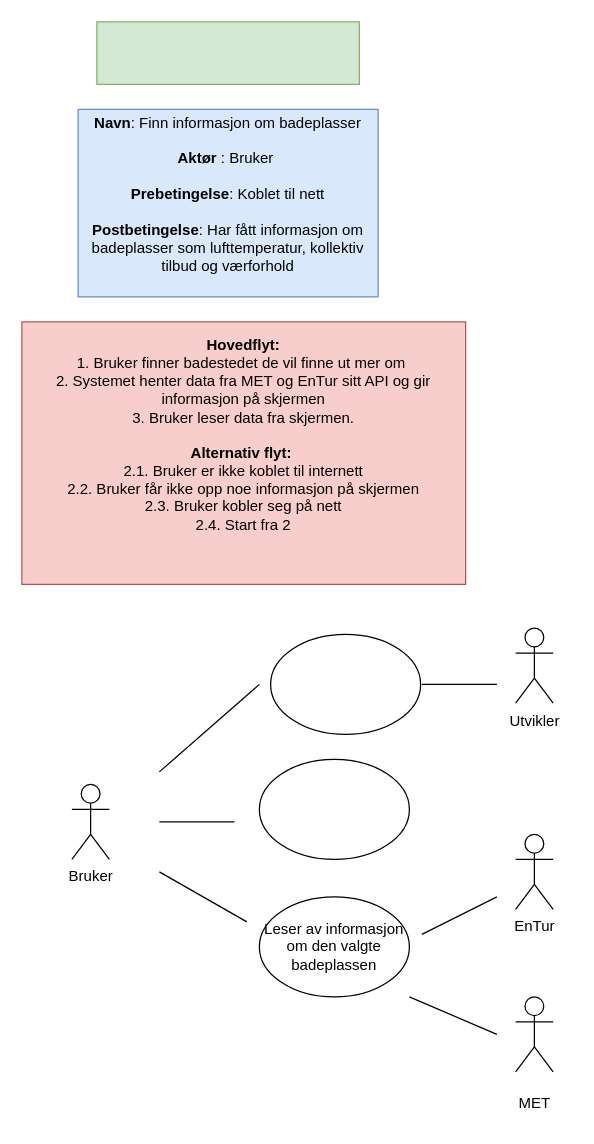
Image size: 594x1144. Some labels were removed from this diagram. The centre of each missing label's shape, as x and y in pixels:
Brukerhistorie : Som en bruker, ønsker jeg å se informasjon om badesteder: pixel 227 52
Ser en oversikt over badeplasser i kartet: pixel 345 683
Velger en badeplass: pixel 333 808
